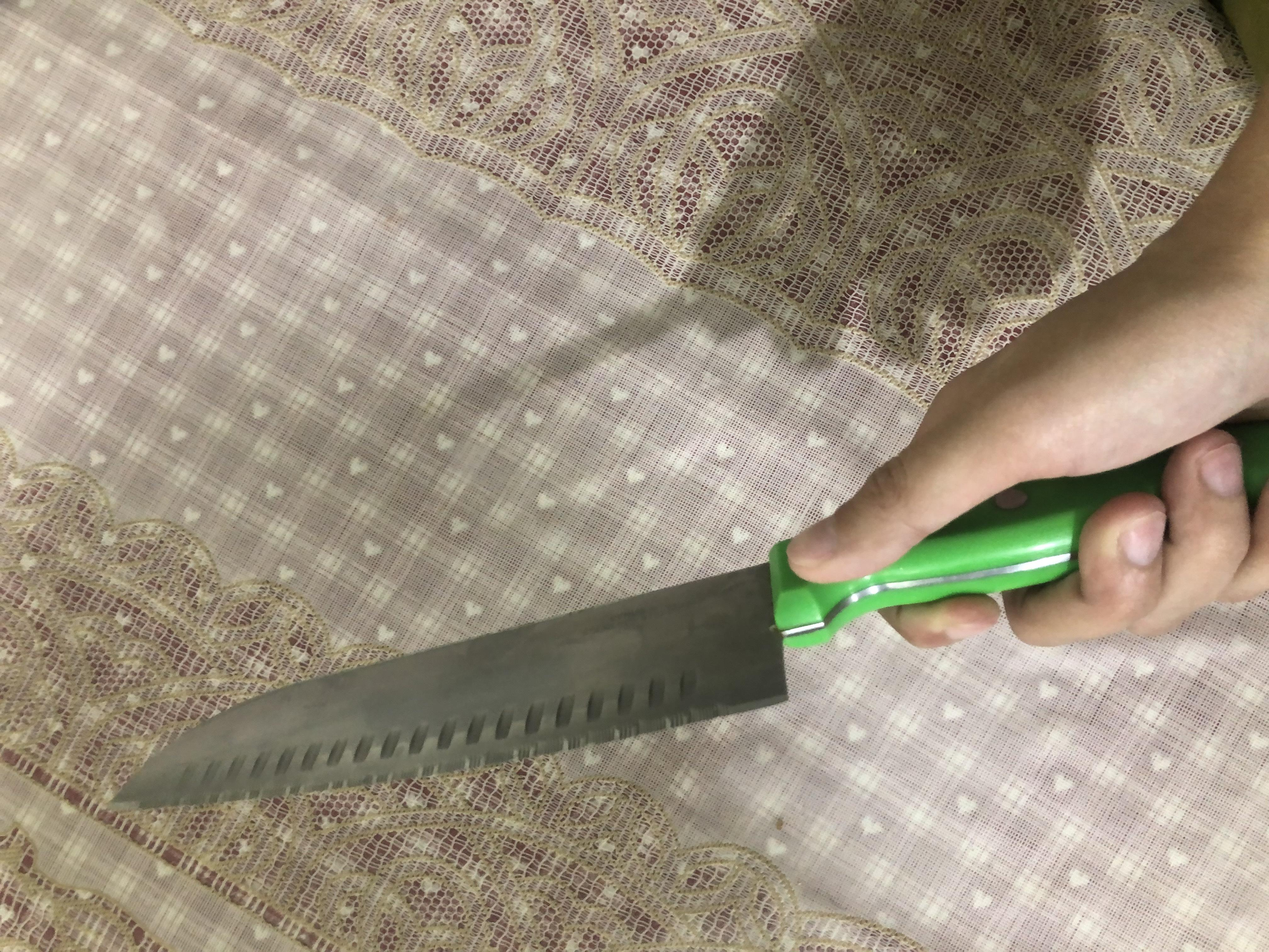knife: (188, 82, 706, 951)
